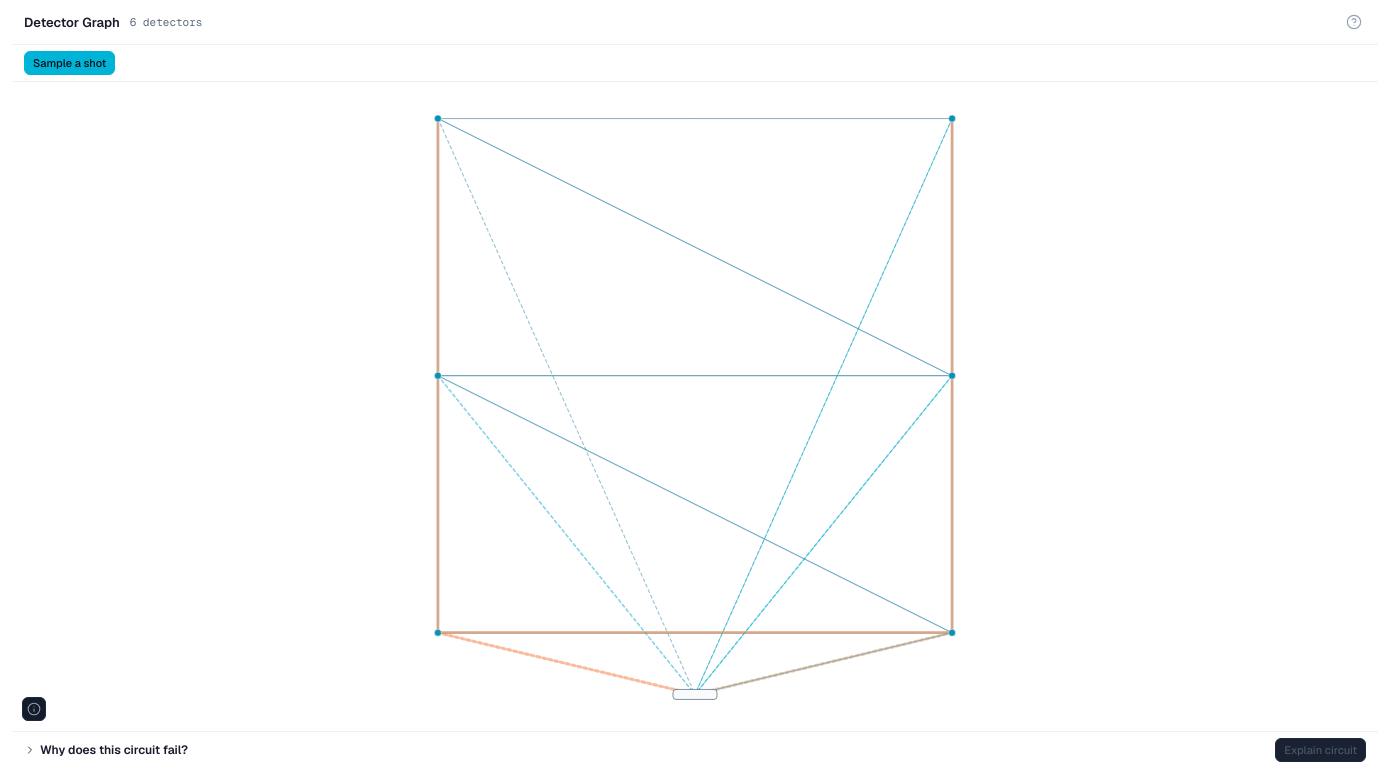
Scenario: DetectorGraphPanel interactive decoder honesty › keeps the explain panel collapsed until it has something to say (qec-10)
Click the button "Why does this circuit fail?": coordinates (106, 750) 24,742 -> 188,758
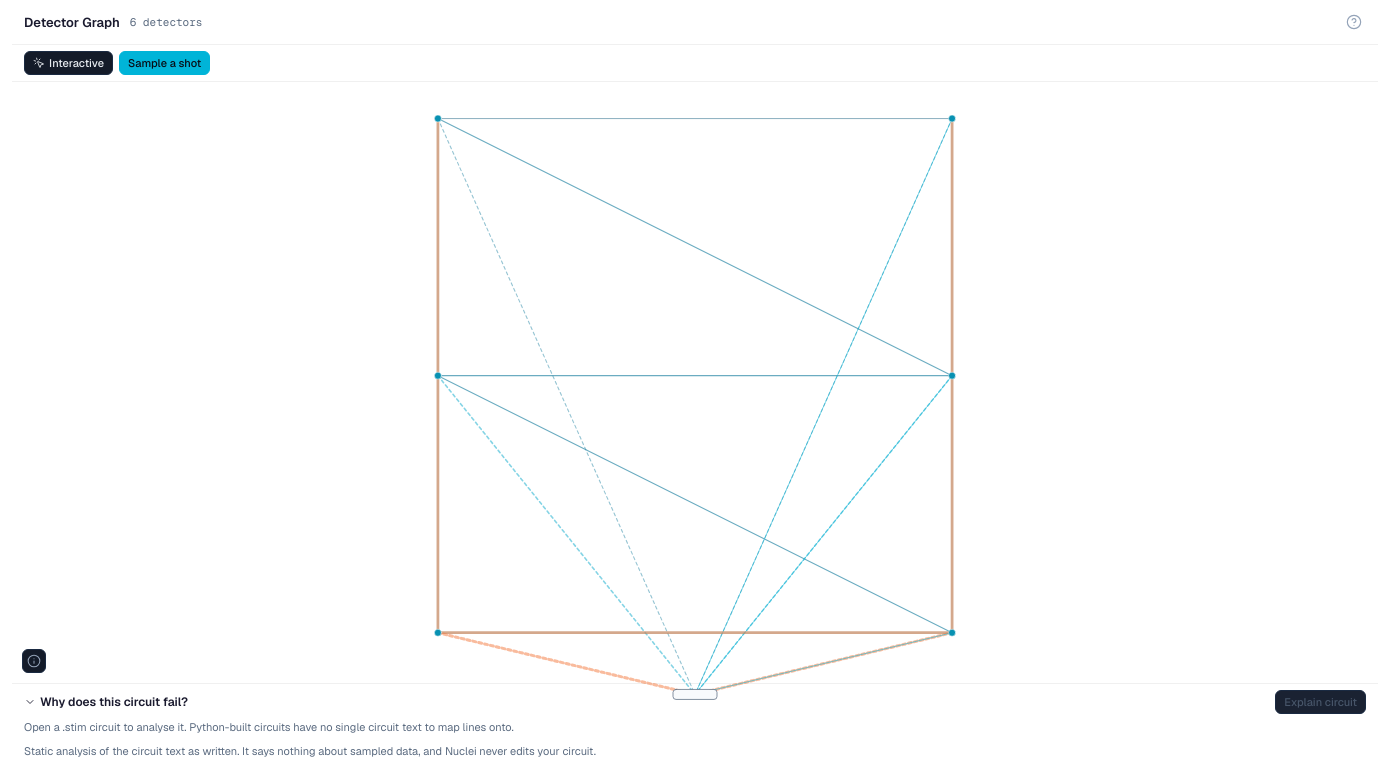
Result: the button "Why does this circuit fail?" is expanded at 24,694 -> 188,710
